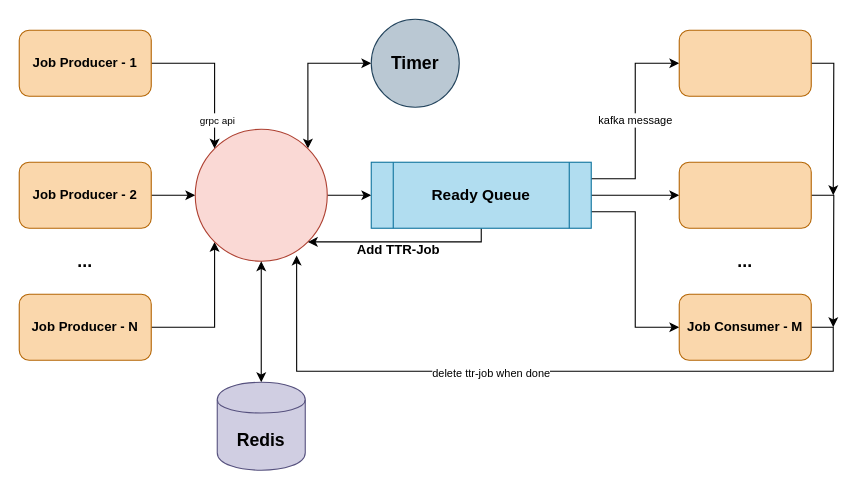
The diagram is 862 pixels wide and 490 high, and some of its shapes have lost their labels. Each missing label, with the box of its shape:
Delay Bucket: (194, 128, 327, 261)
Job Consumer - 1: (678, 29, 811, 96)
Job Consumer - 2: (678, 161, 811, 228)
